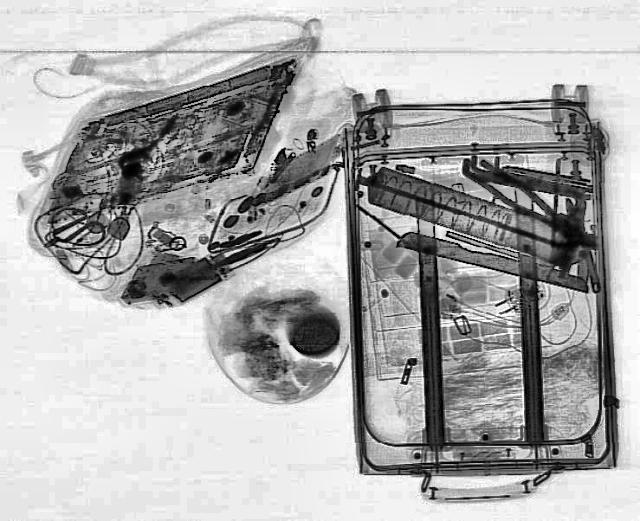Pliers: (455, 152, 609, 256)
